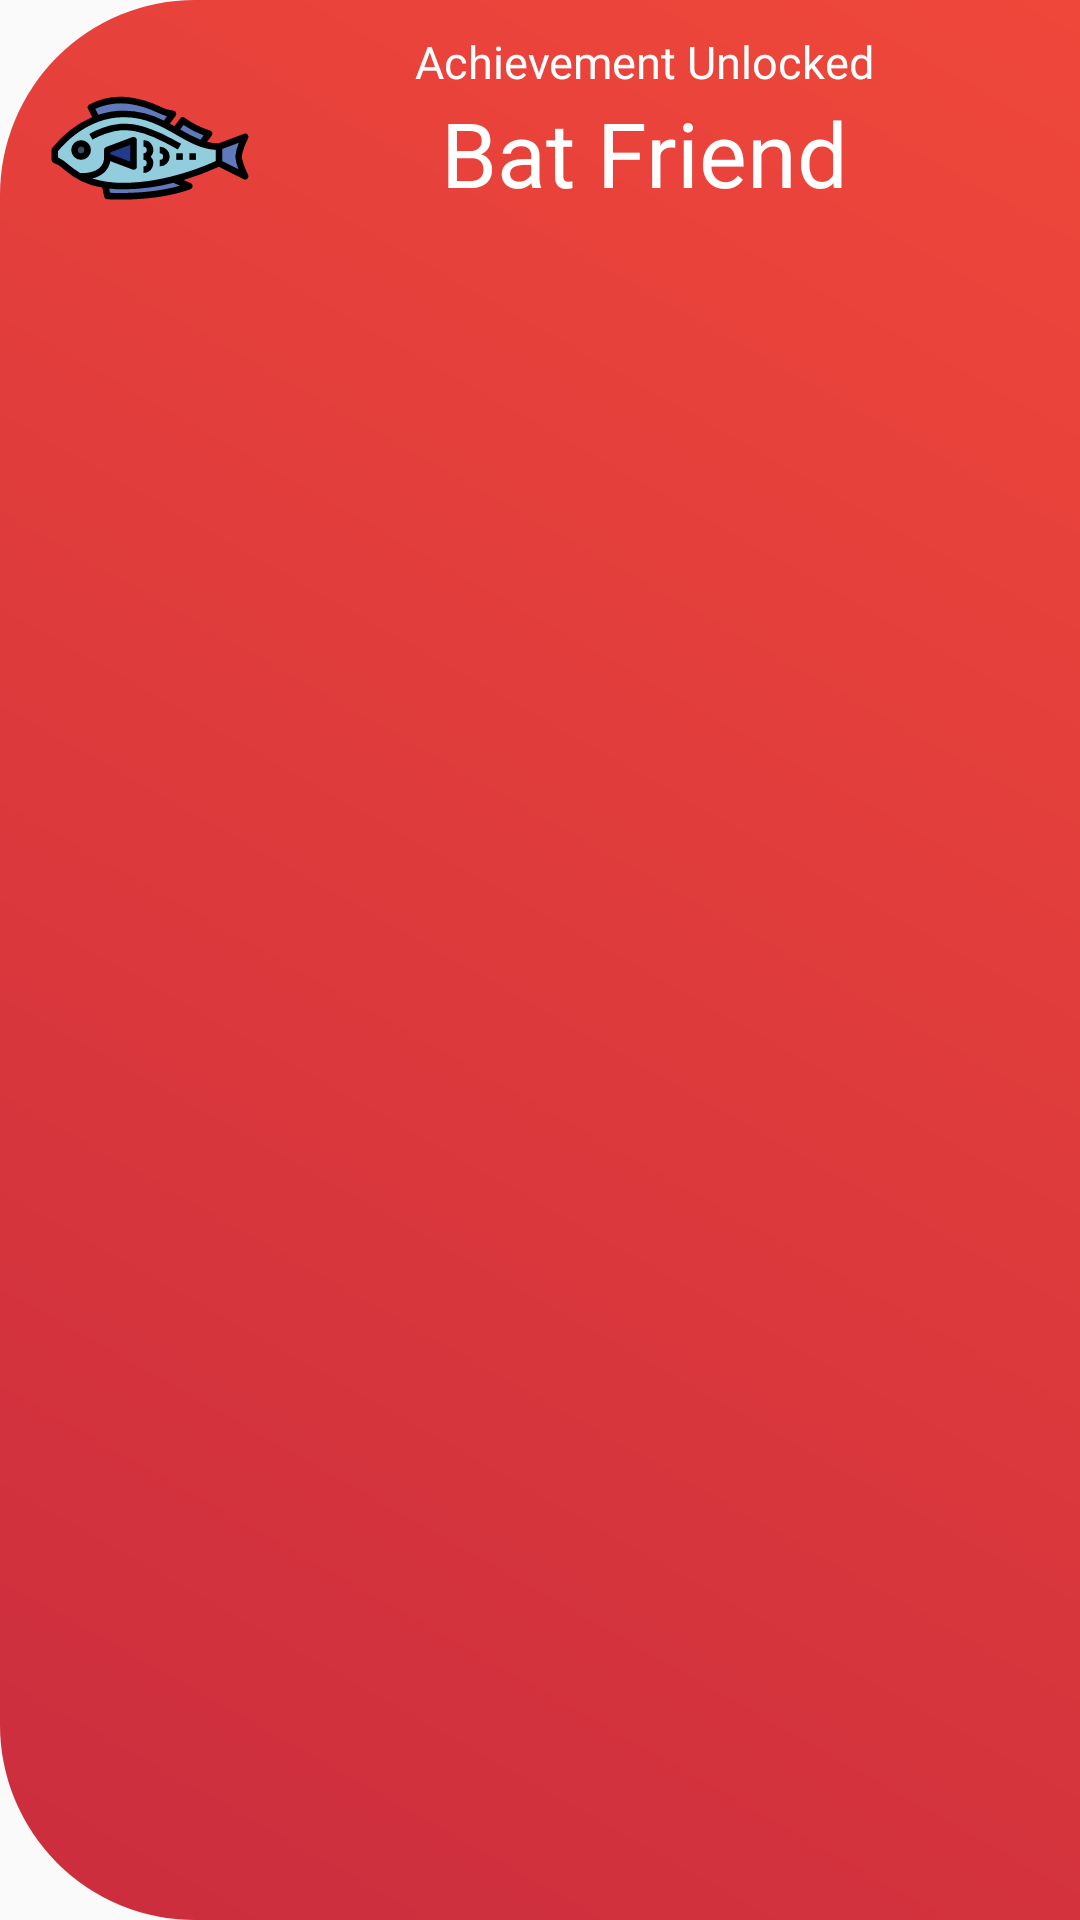

Icon bounding boxes for this 1080*1920 phone screenshot, format (x1=x1, y1=y1, x2=x2, y2=y2):
fish: (x1=51, y1=96, x2=249, y2=200)
